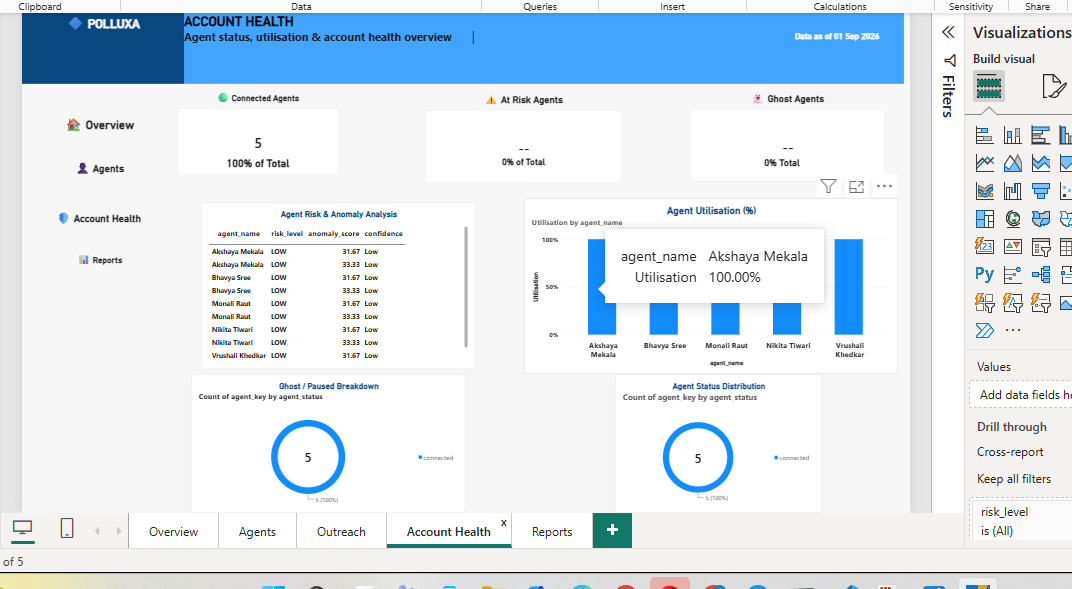

The dashboard page shown, as its layout file describes it:
{"tool":"powerbi","page":{"name":"Account Health","canvas":[1920,1080],"ordinal":3},"visuals":[{"type":"textbox","title":"ACCOUNT HEALTH  ","box":[349.9,0,1555.2,153.4],"z":0},{"type":"textbox","title":"🔷 POLLUXA","box":[0,0,349.9,153.4],"z":1},{"type":"textbox","box":[0,216,349.9,54],"z":2},{"type":"textbox","title":"Data as of 01 Sep 2026","box":[1669.7,38.9,250.6,56.2],"z":3},{"type":"cardVisual","title":"🟢 Connected Agents","fields":{"Data":["dim_agent.Connected Agents"]},"box":[334.8,168.5,349.9,181.4],"z":4},{"type":"textbox","title":"100% of Total","box":[408.2,311,203,38.9],"z":6},{"type":"cardVisual","title":"⚠️ At Risk Agents","fields":{"Data":["dim_agent.Risk Agents"]},"box":[870.5,170.6,425.5,196.6],"z":7},{"type":"textbox","title":"0% of Total","box":[943.9,311,278.6,36.7],"z":8},{"type":"cardVisual","title":"👻 Ghost Agents","fields":{"Data":["dim_agent.Ghost Agents"]},"box":[1442.9,168.5,421.2,196.6],"z":9},{"type":"textbox","title":"0% Total   ","box":[1488.2,311,306.7,38.9],"z":10},{"type":"clusteredColumnChart","title":"Agent Utilisation (%)","fields":{"Category":["dim_agent.agent_name"],"Y":["dim_agent.Utilisation"]},"box":[1084.3,399.6,807.8,380.2],"z":11},{"type":"donutChart","title":"Agent Status Distribution","fields":{"Category":["dim_agent.agent_status"],"Y":["CountNonNull(dim_agent.agent_key)"]},"box":[1280.9,779.8,447.1,300.2],"z":12},{"type":"donutChart","title":"Ghost / Paused Breakdown","fields":{"Category":["dim_agent.agent_status"],"Y":["CountNonNull(dim_agent.agent_key)"]},"box":[365,779.8,594,300.2],"z":13},{"type":"tableEx","title":"Agent Risk & Anomaly Analysis","fields":{"Values":["dim_agent.agent_name","risk_model_results.risk_level","risk_model_results.anomaly_score","risk_model_results.confidence"]},"box":[386.6,408.2,594,360.7],"z":17},{"type":"actionButton","title":"🏠 Overview","box":[0,220.3,334.8,49.7],"z":18},{"type":"actionButton","title":"👤 Agents","box":[13,317.5,308.9,47.5],"z":19},{"type":"actionButton","title":"🛡️ Account Health","box":[54,425.5,222.5,45.4],"z":20},{"type":"actionButton","title":"📊 Reports","box":[45.4,518.4,246.2,41],"z":21}]}

Visuals, with their boxes on the page's 1920x1080 design canvas (x1, y1, x2, y2). These are canvas units, not pixel positions in the 1072x589 screenshot, which may show the page scaled, cropped or inside an application window:
"ACCOUNT HEALTH  " textbox: detection(350, 0, 1905, 153)
"🔷 POLLUXA" textbox: detection(0, 0, 350, 153)
textbox: detection(0, 216, 350, 270)
"Data as of 01 Sep 2026" textbox: detection(1670, 39, 1920, 95)
"🟢 Connected Agents" cardVisual: detection(335, 168, 685, 350)
"100% of Total" textbox: detection(408, 311, 611, 350)
"⚠️ At Risk Agents" cardVisual: detection(870, 171, 1296, 367)
"0% of Total" textbox: detection(944, 311, 1222, 348)
"👻 Ghost Agents" cardVisual: detection(1443, 168, 1864, 365)
"0% Total   " textbox: detection(1488, 311, 1795, 350)
"Agent Utilisation (%)" clusteredColumnChart: detection(1084, 400, 1892, 780)
"Agent Status Distribution" donutChart: detection(1281, 780, 1728, 1080)
"Ghost / Paused Breakdown" donutChart: detection(365, 780, 959, 1080)
"Agent Risk & Anomaly Analysis" tableEx: detection(387, 408, 981, 769)
"🏠 Overview" actionButton: detection(0, 220, 335, 270)
"👤 Agents" actionButton: detection(13, 318, 322, 365)
"🛡️ Account Health" actionButton: detection(54, 426, 276, 471)
"📊 Reports" actionButton: detection(45, 518, 292, 559)
